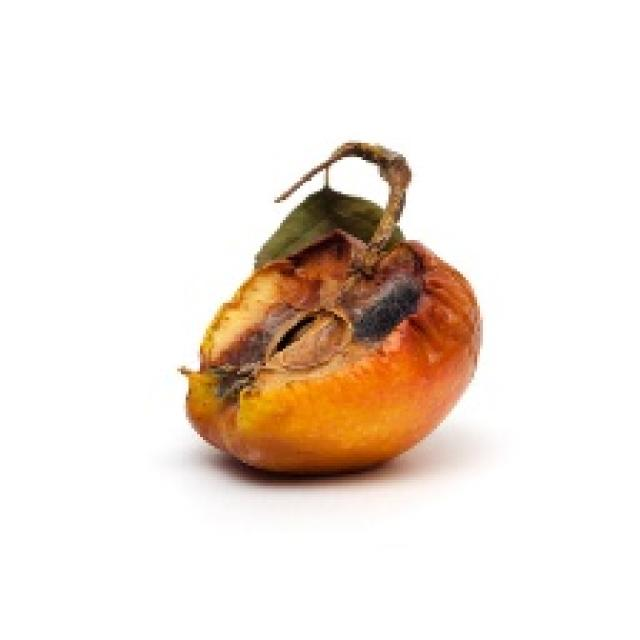rotten_apple: (198, 232, 483, 469)
